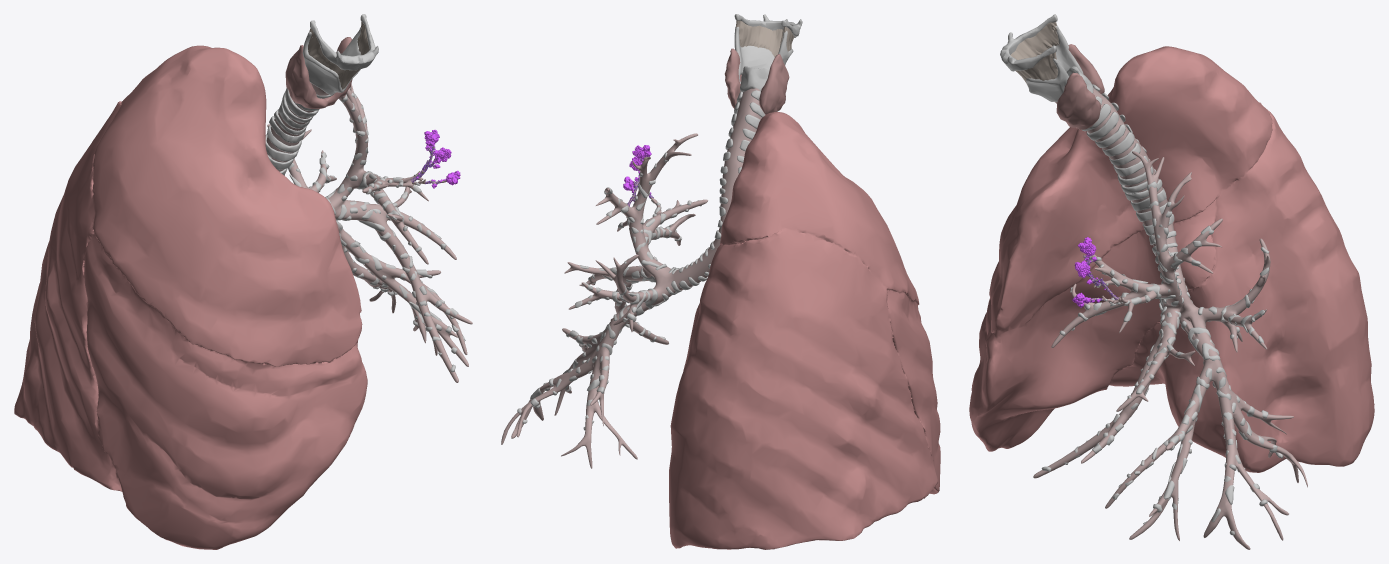
File: all lungs.glb
The picture shows the model from 3 angles, left to right: view 1: azimuth 30°, elevation 25°; view 2: azimuth 150°, elevation 25°; view 3: azimuth 270°, elevation 25°; orthographic projection. The views are drawn at different scales.
Visible parts, largest first — view 1: Linkerlong.002, bronchi1, Trachea_kraakbeen, Hyoid_bone, Thyroid_gland, Tussen_hyoid_en_thyroid, PM3D_Sphere3D2; view 2: Linkerlong.002, bronchi1, Trachea_kraakbeen, Hyoid_bone, Thyroid_gland, Tussen_hyoid_en_thyroid; view 3: Linkerlong.002, bronchi1, Trachea_kraakbeen, Hyoid_bone, Thyroid_gland, Tussen_hyoid_en_thyroid, PM3D_Sphere3D2.
Part boxes in pixels (x1,y1,x2,y2): Linkerlong.002: (14, 45, 367, 549); bronchi1: (266, 83, 472, 382); Trachea_kraakbeen: (265, 88, 465, 372); Hyoid_bone: (302, 14, 378, 98); Thyroid_gland: (285, 37, 352, 108); Tussen_hyoid_en_thyroid: (308, 21, 369, 89); PM3D_Sphere3D2: (416, 129, 460, 188); Linkerlong.002: (669, 112, 940, 549); bronchi1: (501, 88, 761, 468); Trachea_kraakbeen: (517, 90, 765, 430); Hyoid_bone: (734, 14, 802, 91); Thyroid_gland: (724, 48, 789, 114); Tussen_hyoid_en_thyroid: (736, 20, 794, 57); Linkerlong.002: (969, 46, 1374, 472); bronchi1: (1033, 88, 1307, 549); Trachea_kraakbeen: (1041, 84, 1283, 535); Hyoid_bone: (1000, 14, 1093, 101); Thyroid_gland: (1056, 44, 1104, 129); Tussen_hyoid_en_thyroid: (1010, 22, 1059, 85); PM3D_Sphere3D2: (1072, 237, 1105, 307).
Size of the model in its own units: 2.68 by 3.15 by 2.33.
